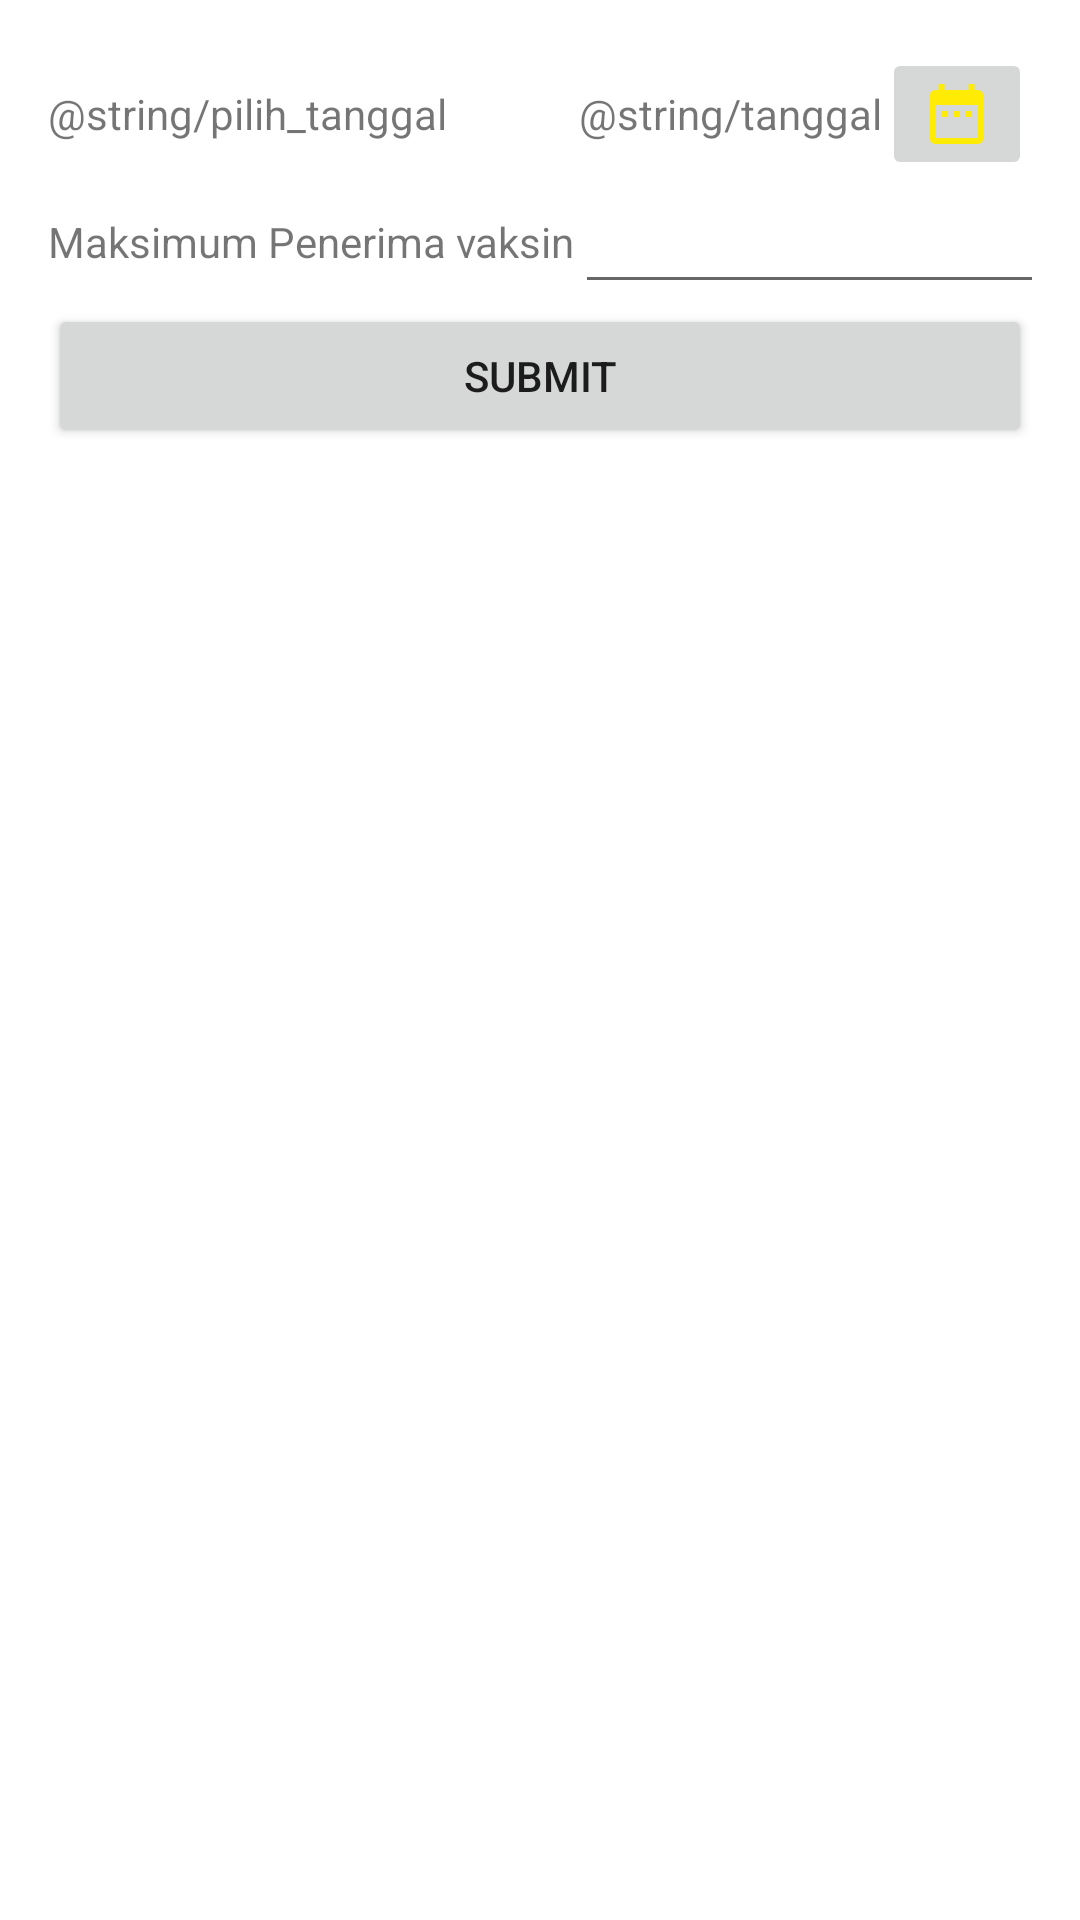

Screen size 1080px x 1920px. Icon name, then its box in pixels as (x1, y1, x2, y2):
date range: (894, 66, 1020, 162)
